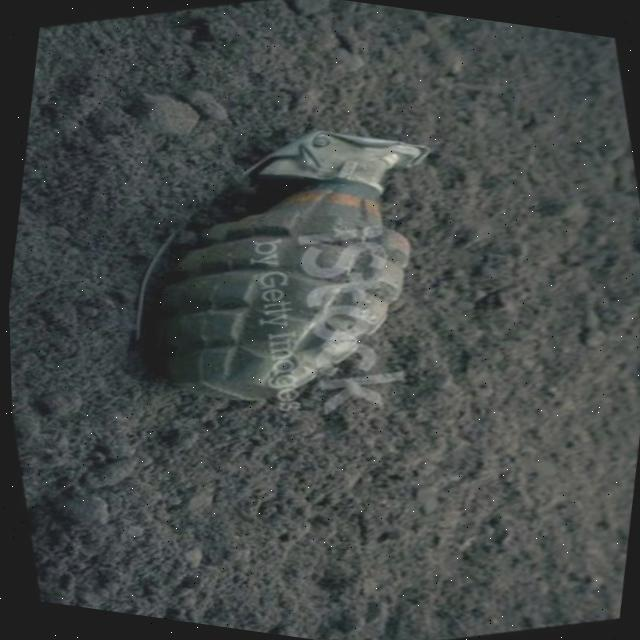grenade: (85, 80, 484, 448)
